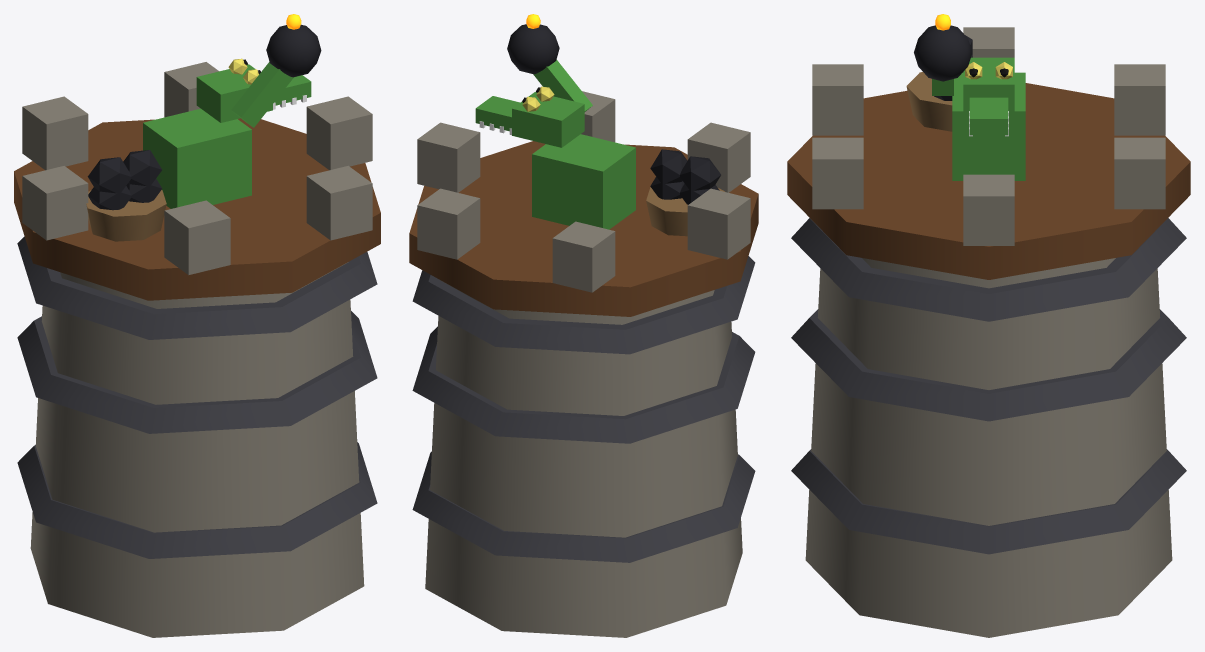
The model's file is level2.glb.
3 renders of one model, left to right at view 1: azimuth 30°, elevation 25°; view 2: azimuth 150°, elevation 25°; view 3: azimuth 270°, elevation 25°, orthographic. The views are drawn at different scales.
Visible parts, largest first — view 1: object 1, object 2, turret, object 4, object 5, object 3, object 7, object 8, object 9, object 10, object 6, object 13 (+5 smaller); view 2: object 1, object 2, turret, object 4, object 5, object 3, object 9, object 10, object 11, object 6, object 8, object 13 (+4 smaller); view 3: object 1, object 2, object 4, object 5, object 3, turret, object 7, object 11, object 6, object 8, object 10, object 13 (+1 smaller).
Boxes of the visible parts, box(x1,y1,x2,y2) form: object 1: box(30, 262, 364, 637); object 2: box(14, 118, 380, 300); turret: box(143, 14, 321, 208); object 4: box(17, 311, 377, 433); object 5: box(17, 236, 377, 339); object 3: box(17, 442, 377, 558); object 7: box(306, 165, 372, 240); object 8: box(164, 200, 230, 274); object 9: box(22, 166, 88, 240); object 10: box(22, 96, 88, 170); object 6: box(306, 96, 372, 170); object 13: box(86, 190, 166, 241); object 1: box(425, 280, 742, 637); object 2: box(409, 141, 758, 316); turret: box(475, 14, 635, 229); object 4: box(412, 326, 755, 443); object 5: box(412, 256, 755, 354); object 3: box(412, 451, 755, 562); object 9: box(687, 188, 750, 259); object 10: box(552, 221, 615, 292); object 11: box(417, 188, 480, 259); object 6: box(417, 122, 480, 192); object 8: box(687, 122, 750, 192); object 13: box(646, 187, 724, 236); object 1: box(805, 258, 1172, 637); object 2: box(787, 83, 1190, 279); object 4: box(791, 309, 1186, 421); object 5: box(791, 218, 1186, 321); object 3: box(791, 449, 1186, 554); turret: box(914, 14, 1025, 180); object 7: box(812, 137, 863, 209); object 11: box(1114, 137, 1165, 209); object 6: box(963, 174, 1014, 245); object 8: box(812, 64, 863, 135); object 10: box(1114, 64, 1165, 135); object 13: box(906, 72, 952, 131).
Size of the model in its own units: 2.33 by 3.73 by 2.33.
